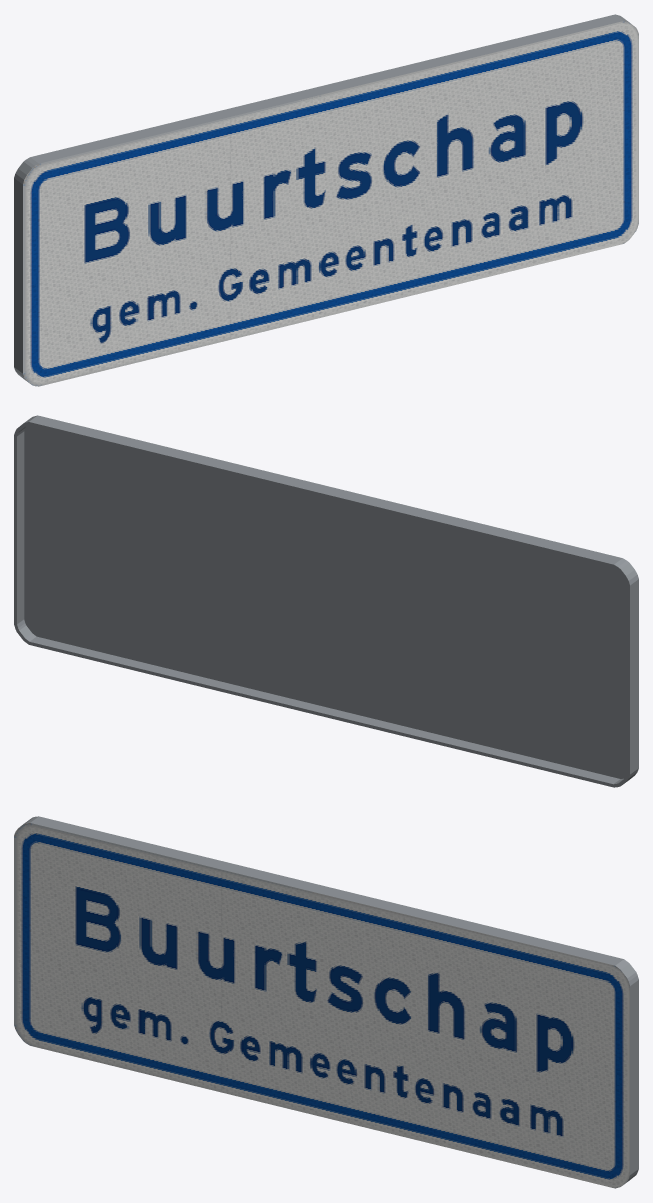
3 renders of one model, top to bottom at view 1: azimuth 30°, elevation 25°; view 2: azimuth 150°, elevation 25°; view 3: azimuth 330°, elevation 25°, orthographic.
Parts seen in each view (by area): view 1: cat_66531582399b0718; view 2: cat_66531582399b0718; view 3: cat_66531582399b0718.
Part boxes in pixels (<box>): cat_66531582399b0718: <box>14,14,638,386</box>; cat_66531582399b0718: <box>14,415,638,787</box>; cat_66531582399b0718: <box>14,816,638,1188</box>.
Size of the model in its own units: 0.6 by 0.015 by 0.2074.
2 materials, 1 textured.
